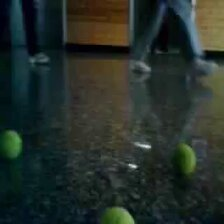tennis: (89, 206, 136, 224), (173, 143, 196, 174), (1, 130, 23, 161)
